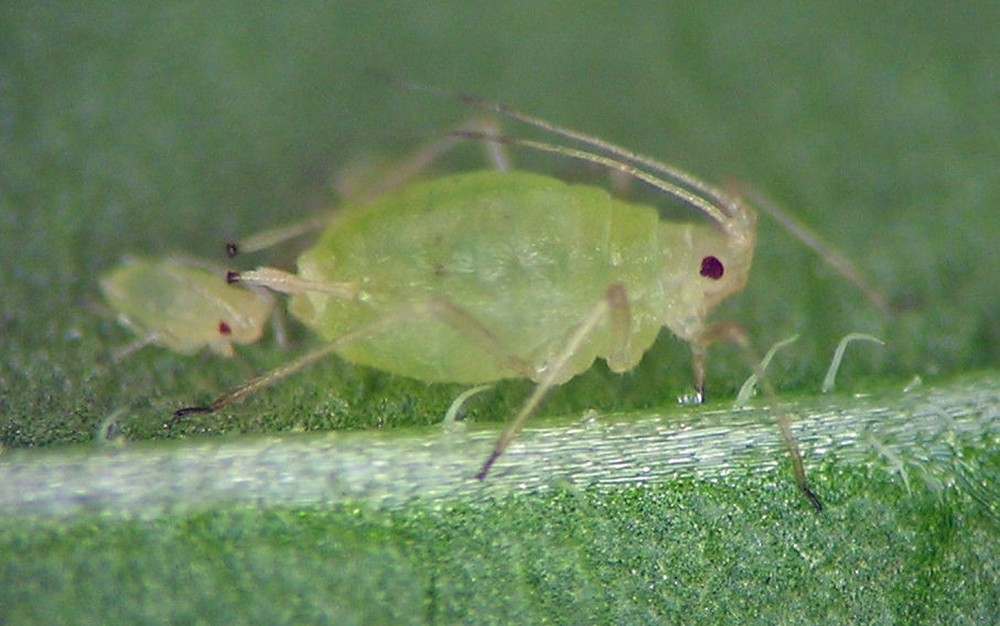Pulgon: (243, 82, 856, 509), (89, 216, 294, 376)
